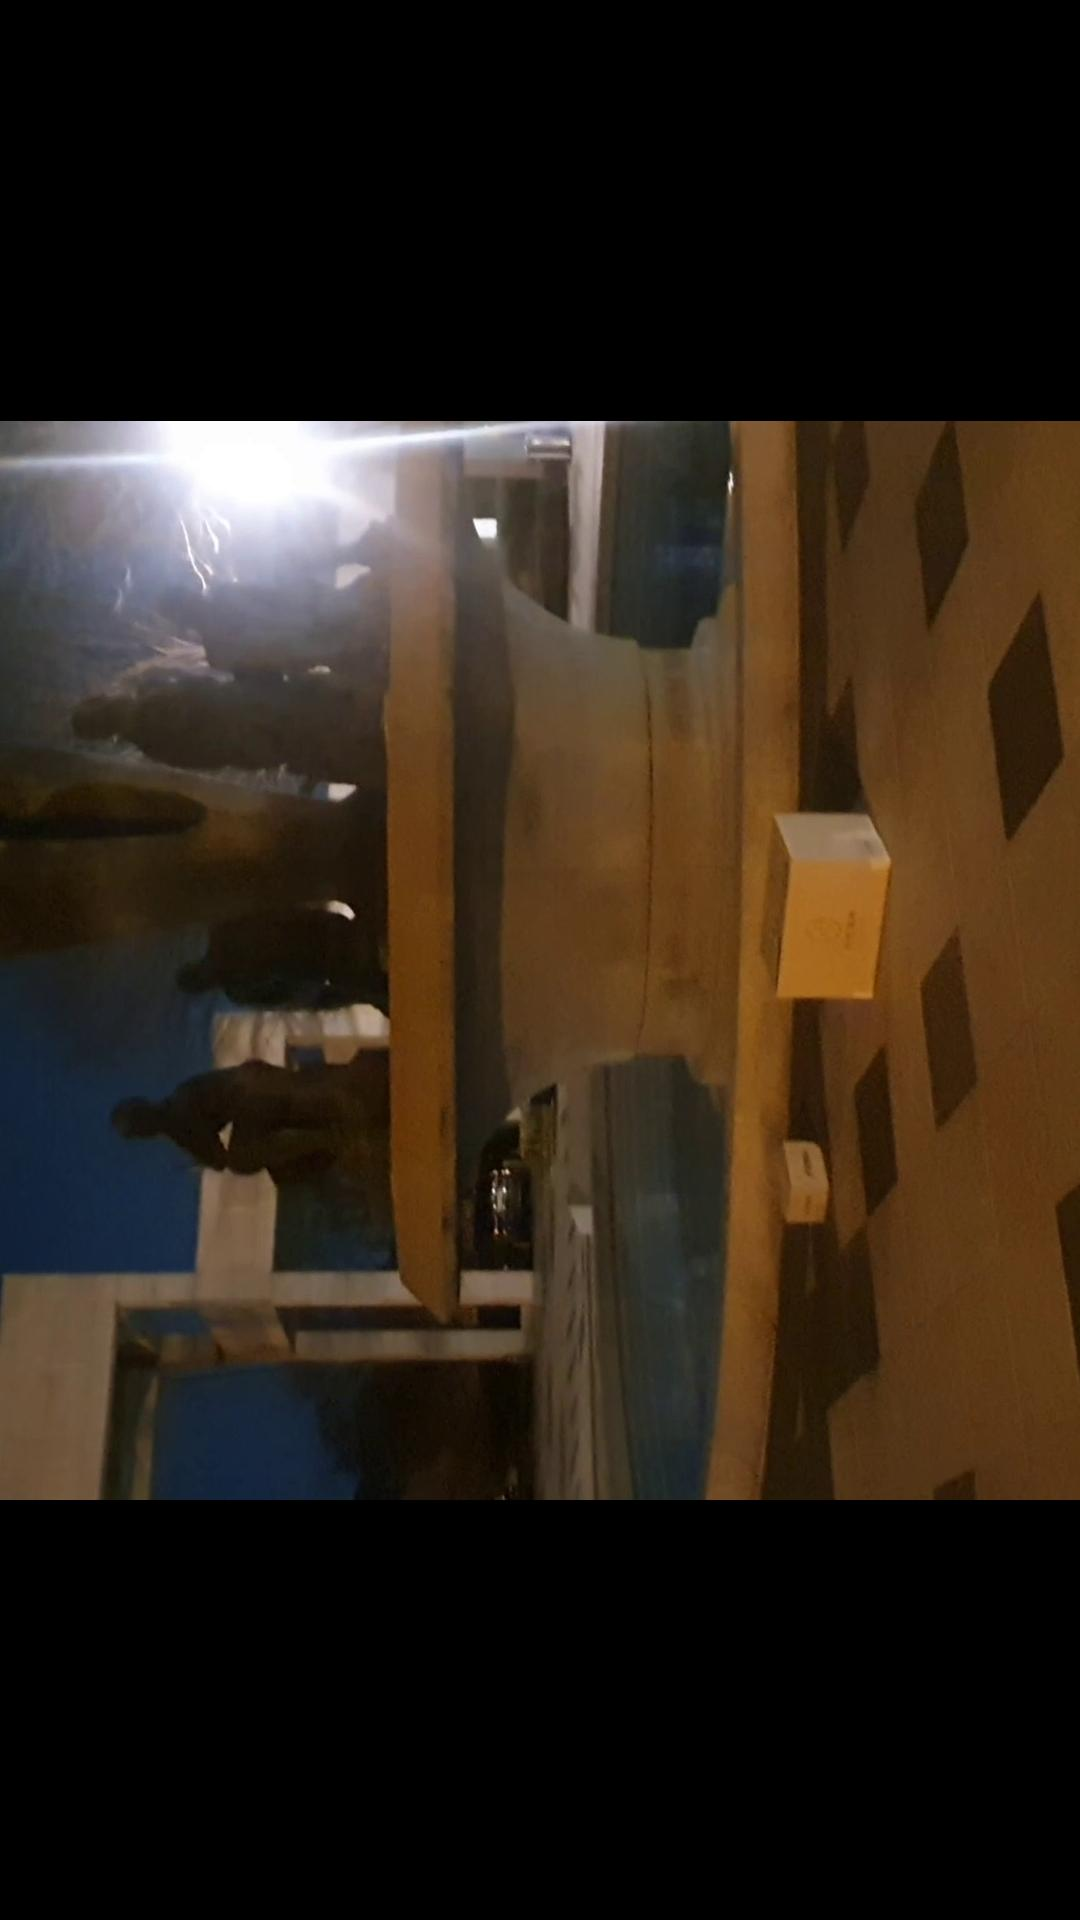Box: (742, 793, 895, 992), (764, 1130, 840, 1244)
